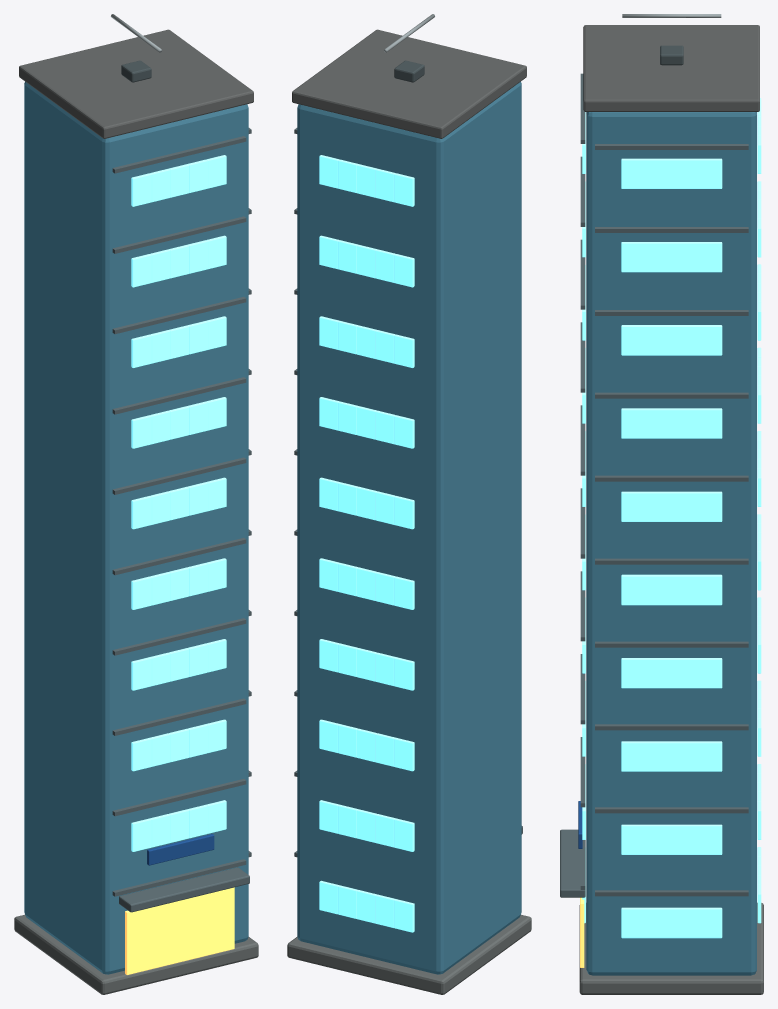
Rendered from commercial_glass_tower.glb.
3 renders of one model, left to right at view 1: azimuth 30°, elevation 25°; view 2: azimuth 150°, elevation 25°; view 3: azimuth 270°, elevation 25°, orthographic. The views are drawn at different scales.
Visible parts, largest first — view 1: main_massing, roof_slab, storefront_glazing, foundation, storefront_awning, shop_sign, facade_band_front.005, facade_band_front.002, facade_band_front, facade_band_front.007, facade_band_front.001, facade_band_front.006 (+49 smaller); view 2: main_massing, roof_slab, foundation, rear_window.010, rear_window, rear_window.025, rear_window.035, rear_window.020, rear_window.040, rear_window.015, rear_window.045, rear_window.005 (+41 smaller); view 3: main_massing, roof_slab, foundation, storefront_awning, facade_band_side, facade_band_side.001, facade_band_side.002, facade_band_side.003, facade_band_side.004, facade_band_side.005, facade_band_side.006, facade_band_side.007 (+43 smaller).
Part boxes in pixels (x1,y1,x2,y2): main_massing: (24,81,248,974); roof_slab: (19,29,253,138); storefront_glazing: (125,887,234,974); foundation: (14,914,258,994); storefront_awning: (119,867,249,912); shop_sign: (147,834,214,865); facade_band_front.005: (112,457,246,494); facade_band_front.002: (112,698,246,735); facade_band_front: (112,859,246,896); facade_band_front.007: (112,297,246,334); facade_band_front.001: (112,779,246,816); facade_band_front.006: (112,377,246,414); main_massing: (297,81,521,974); roof_slab: (292,29,526,138); foundation: (287,914,531,994); rear_window.010: (394,737,414,771); rear_window: (394,899,414,932); rear_window.025: (394,496,414,529); rear_window.035: (394,334,414,367); rear_window.020: (394,576,414,609); rear_window.040: (394,254,414,287); rear_window.015: (394,657,414,690); rear_window.045: (394,173,414,206); rear_window.005: (394,818,414,851); main_massing: (586,112,756,975); roof_slab: (583,25,759,111); foundation: (579,902,763,994); storefront_awning: (560,829,585,897); facade_band_side: (595,890,748,896); facade_band_side.001: (595,807,748,813); facade_band_side.002: (595,724,748,730); facade_band_side.003: (595,641,748,647); facade_band_side.004: (595,558,748,564); facade_band_side.005: (595,475,748,481); facade_band_side.006: (595,392,748,398); facade_band_side.007: (595,310,748,315).
Size of the model in its own units: 1.1 by 6.09 by 1.2.
